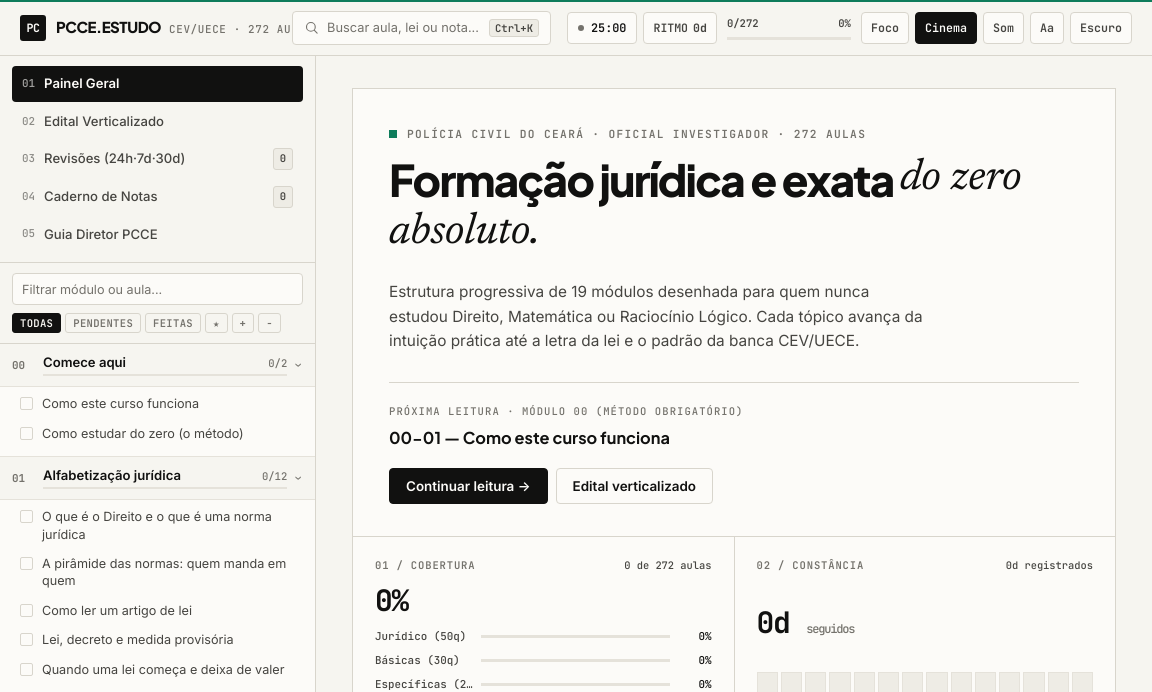
Test case: App › navega para a aula pelo botão de continuar leitura
Click the link "Continuar leitura →": coordinates (468, 486) [389, 468, 548, 504]
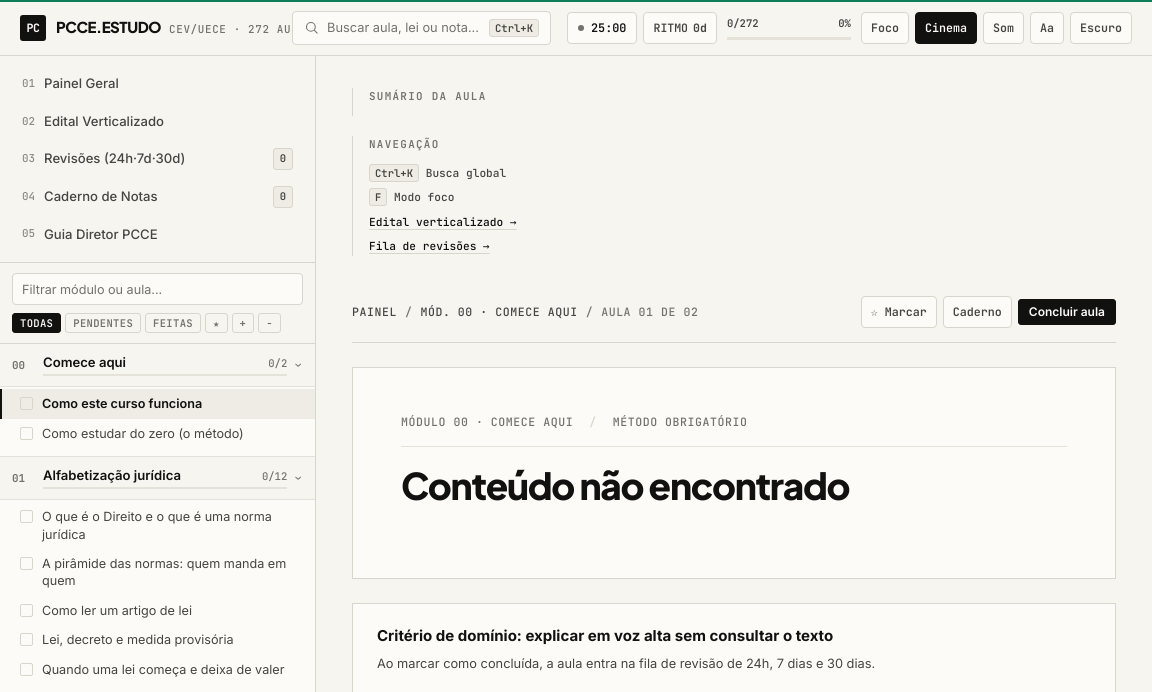
Result: the button "Concluir aula" is shown at [1018, 299, 1116, 325]
